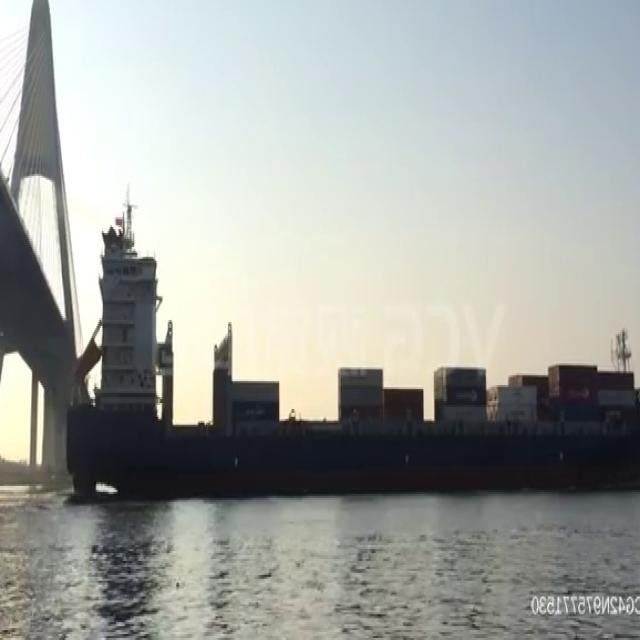cargoship: (72, 258, 640, 506)
